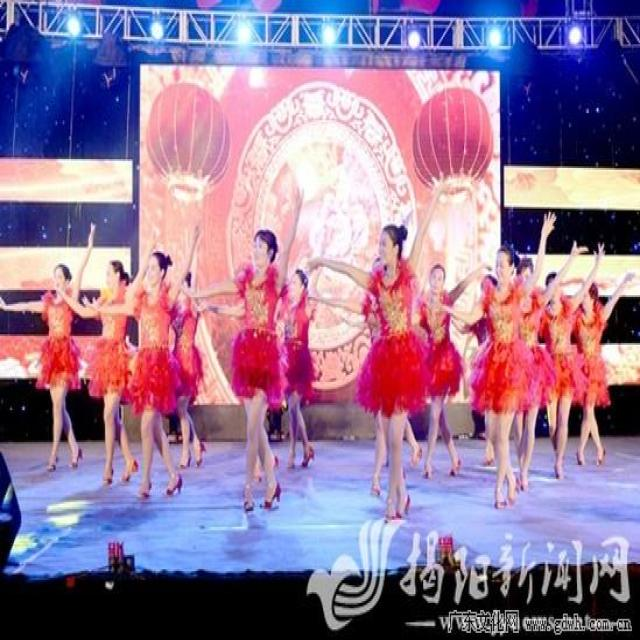non-fight: (309, 218, 443, 522), (189, 181, 305, 516), (442, 211, 554, 511), (82, 222, 198, 498)
